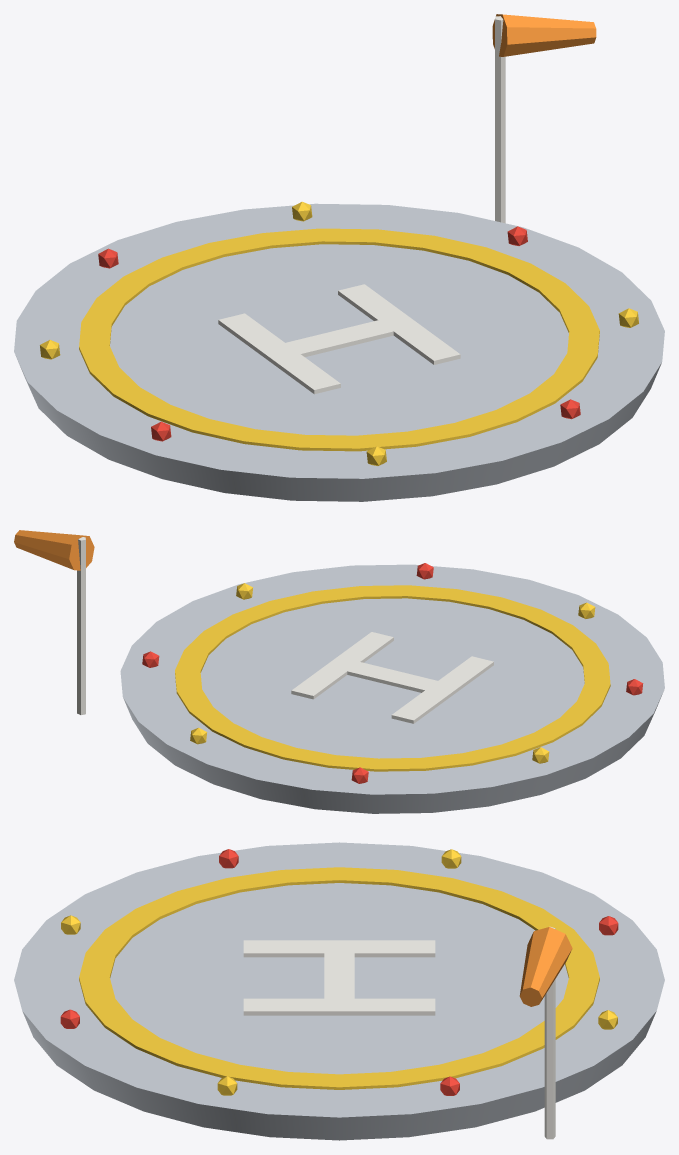
The model's file is home_helipad.fbx.
3 views of the same model, one above another, from view 1: azimuth 30°, elevation 25°; view 2: azimuth 150°, elevation 25°; view 3: azimuth 270°, elevation 25° (orthographic). The views are drawn at different scales.
Parts seen in each view (by area): view 1: home_helipad; view 2: home_helipad; view 3: home_helipad.
Boxes of the visible parts, x1=… form: home_helipad: x1=14, y1=14, x2=664, y2=501; home_helipad: x1=14, y1=530, x2=664, y2=813; home_helipad: x1=14, y1=842, x2=664, y2=1140.
Bounding box in the file's own units: 1.91 × 0.6096 × 1.7.
